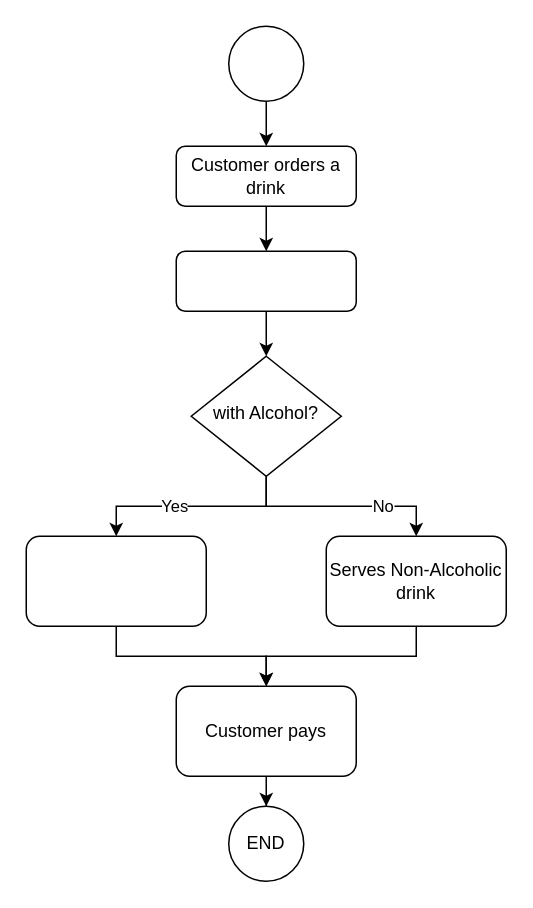
The diagram is 533 pixels wide and 908 high, and some of its shapes have lost their labels. Here are the shapes that lost their labels. From the top down, the centre of each, then its label:
At (265,63): "START".
At (265,280): "Bartender takes order".
At (115,580): "Serves Alcoholic drink".
